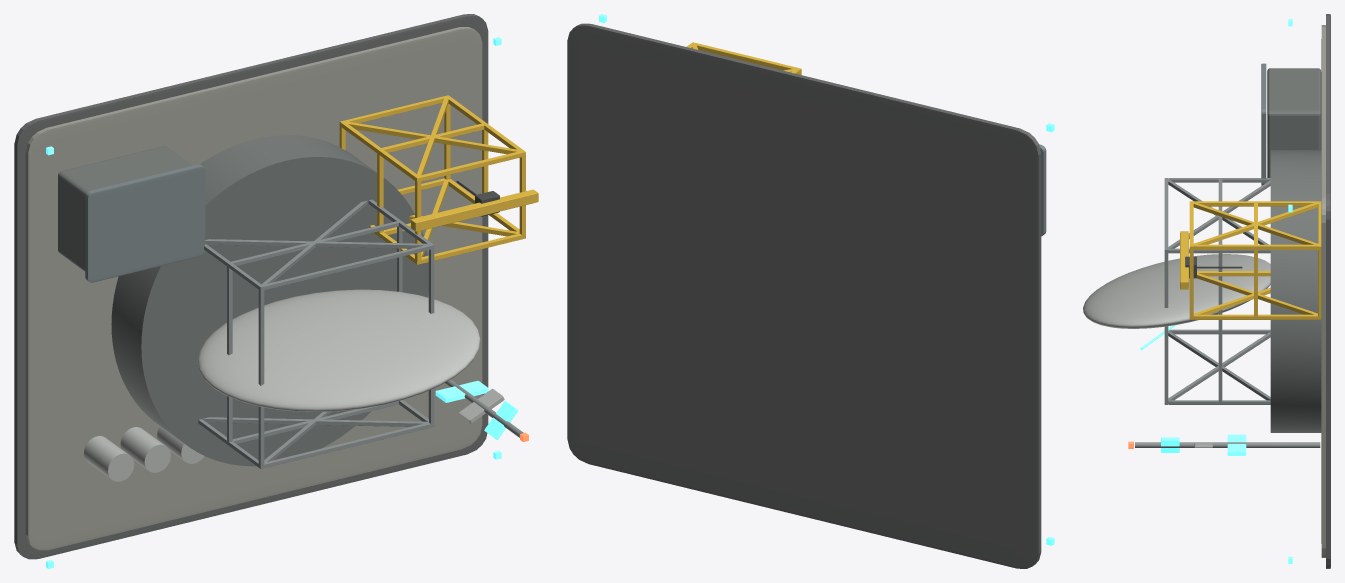
Rendered from b-44-uplink-lod1.glb.
3 renders of one model, left to right at view 1: azimuth 30°, elevation 25°; view 2: azimuth 150°, elevation 25°; view 3: azimuth 270°, elevation 25°, orthographic. The views are drawn at different scales.
Parts seen in each view (by area): view 1: foundation_inner_pad, primary_concrete_mound, primary_uplink_dish_dish, foundation, uplink_substation_roof, uplink_substation_main_hall, uplink_service_crane_bridge, uplink_chiller_0, uplink_chiller_1, uplink_dish_frame_brace_a_3.25, uplink_dish_frame_brace_a_-3.25, uplink_service_crane_brace_a_1.5 (+15 smaller); view 2: foundation, uplink_service_crane_beam_x_2_n; view 3: primary_concrete_mound, primary_uplink_dish_dish, uplink_substation_main_hall, foundation, foundation_inner_pad, tracking_mast_main, uplink_service_crane_column_e_n, uplink_service_crane_column_e_s, uplink_service_crane_brace_b_1.5, uplink_service_crane_brace_a_1.5, uplink_substation_roof, uplink_service_crane_brace_b_-1.5 (+17 smaller).
Part boxes in pixels (x1,y1,x2,y2): foundation_inner_pad: (25, 27, 482, 550); primary_concrete_mound: (111, 135, 428, 466); primary_uplink_dish_dish: (197, 289, 480, 411); foundation: (14, 14, 488, 559); uplink_substation_roof: (85, 164, 205, 282); uplink_substation_main_hall: (58, 146, 191, 271); uplink_service_crane_bridge: (411, 189, 538, 231); uplink_chiller_0: (84, 436, 134, 481); uplink_chiller_1: (120, 427, 170, 472); uplink_dish_frame_brace_a_3.25: (205, 239, 428, 248); uplink_dish_frame_brace_a_-3.25: (203, 417, 428, 426); uplink_service_crane_brace_a_1.5: (346, 121, 519, 154); foundation: (567, 23, 1041, 568); uplink_service_crane_beam_x_2_n: (694, 43, 801, 74); primary_concrete_mound: (1270, 150, 1321, 432); primary_uplink_dish_dish: (1083, 254, 1270, 328); uplink_substation_main_hall: (1267, 68, 1321, 177); foundation: (1326, 14, 1330, 568); foundation_inner_pad: (1321, 25, 1325, 557); tracking_mast_main: (1135, 442, 1320, 447); uplink_service_crane_column_e_n: (1193, 244, 1318, 249); uplink_service_crane_column_e_s: (1193, 314, 1318, 319); uplink_service_crane_brace_b_1.5: (1193, 202, 1318, 244); uplink_service_crane_brace_a_1.5: (1193, 203, 1318, 244); uplink_substation_roof: (1261, 63, 1266, 185); uplink_service_crane_brace_b_-1.5: (1197, 273, 1317, 314).
Size of what is drawn, in the model's own units: 18 by 16 by 9.65.
